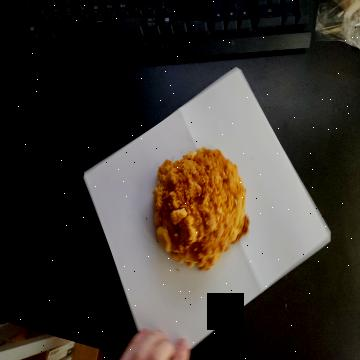soboru_bread: (150, 146, 248, 273)
